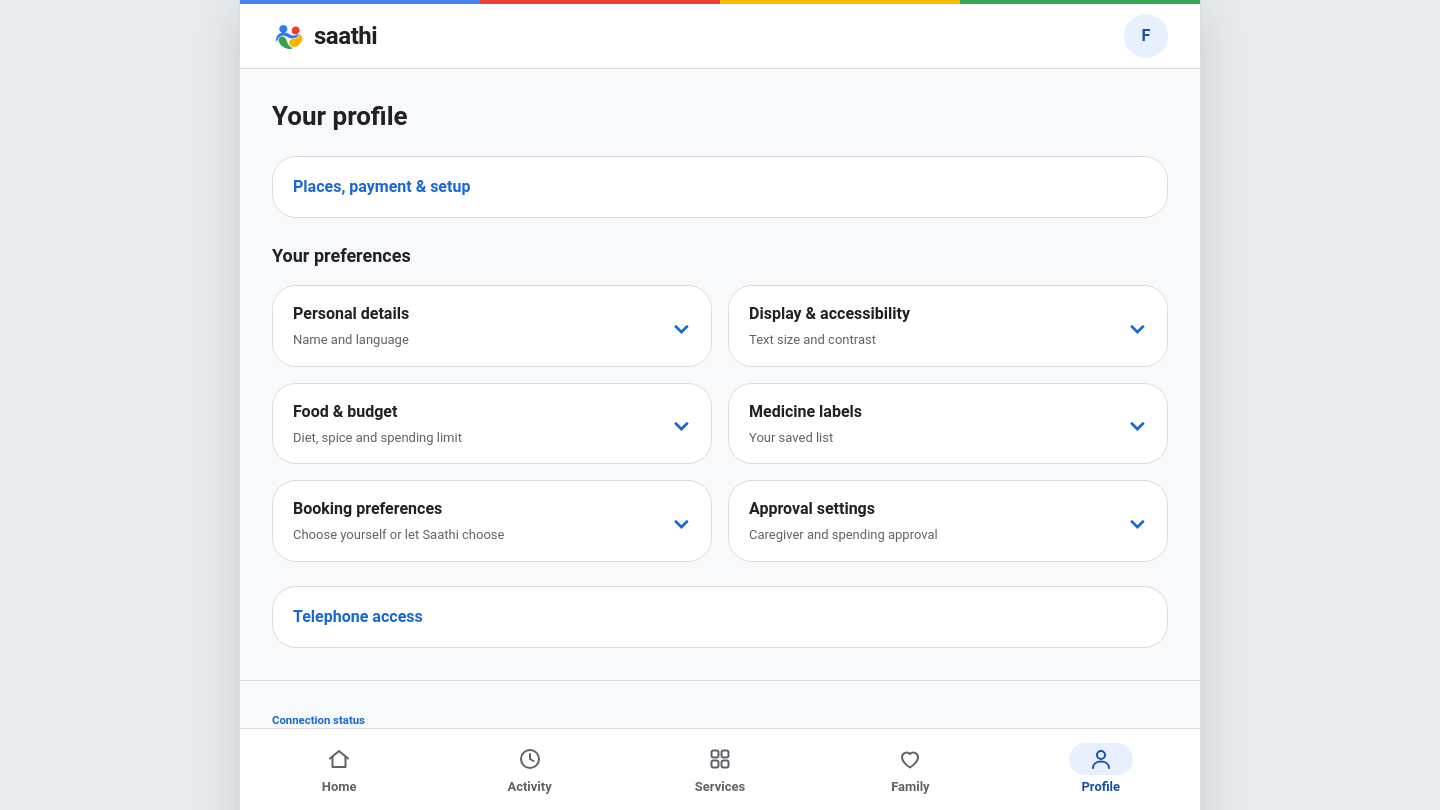
Test case: failed preference save keeps the draft editable and shows no saved summary
This screenshot has width=1440, height=810.
Click the button "Personal details Name and language ⌄": point(351, 314) [273,286,711,366]
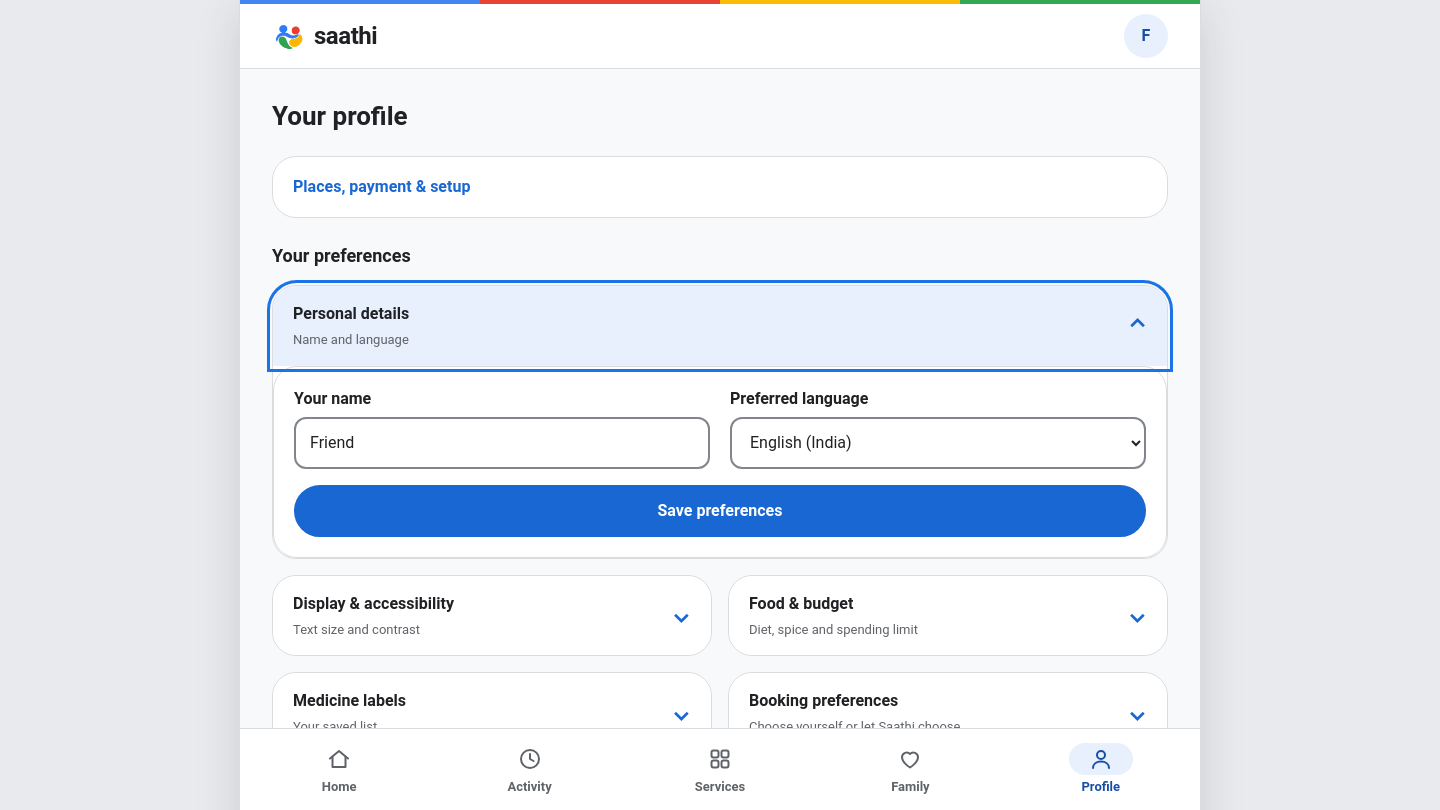
Replace the text in the field labelled "Your name" with "Unsaved name": point(502, 443) [294,417,710,469]
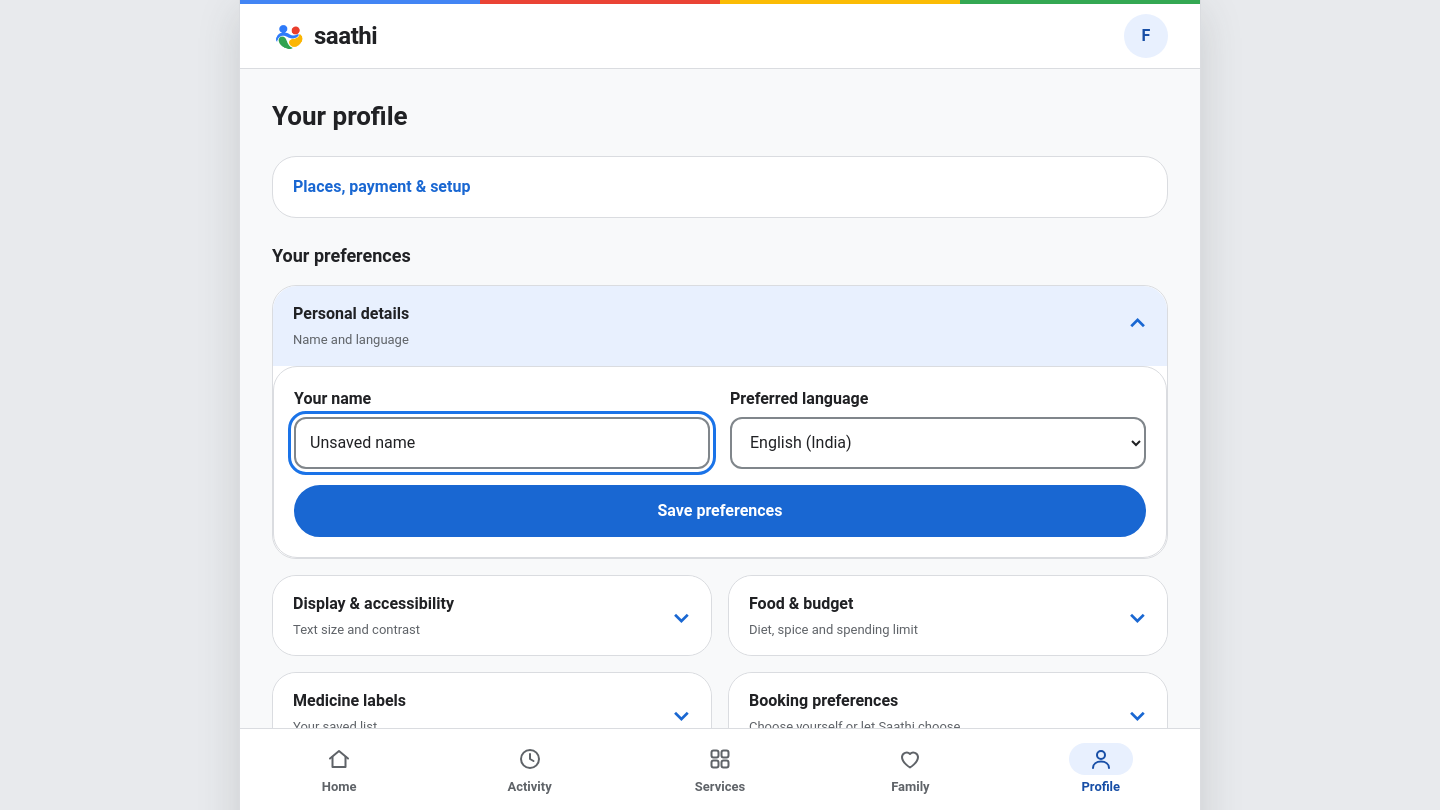
Click the button "Save preferences": point(720, 511) [294,485,1146,537]
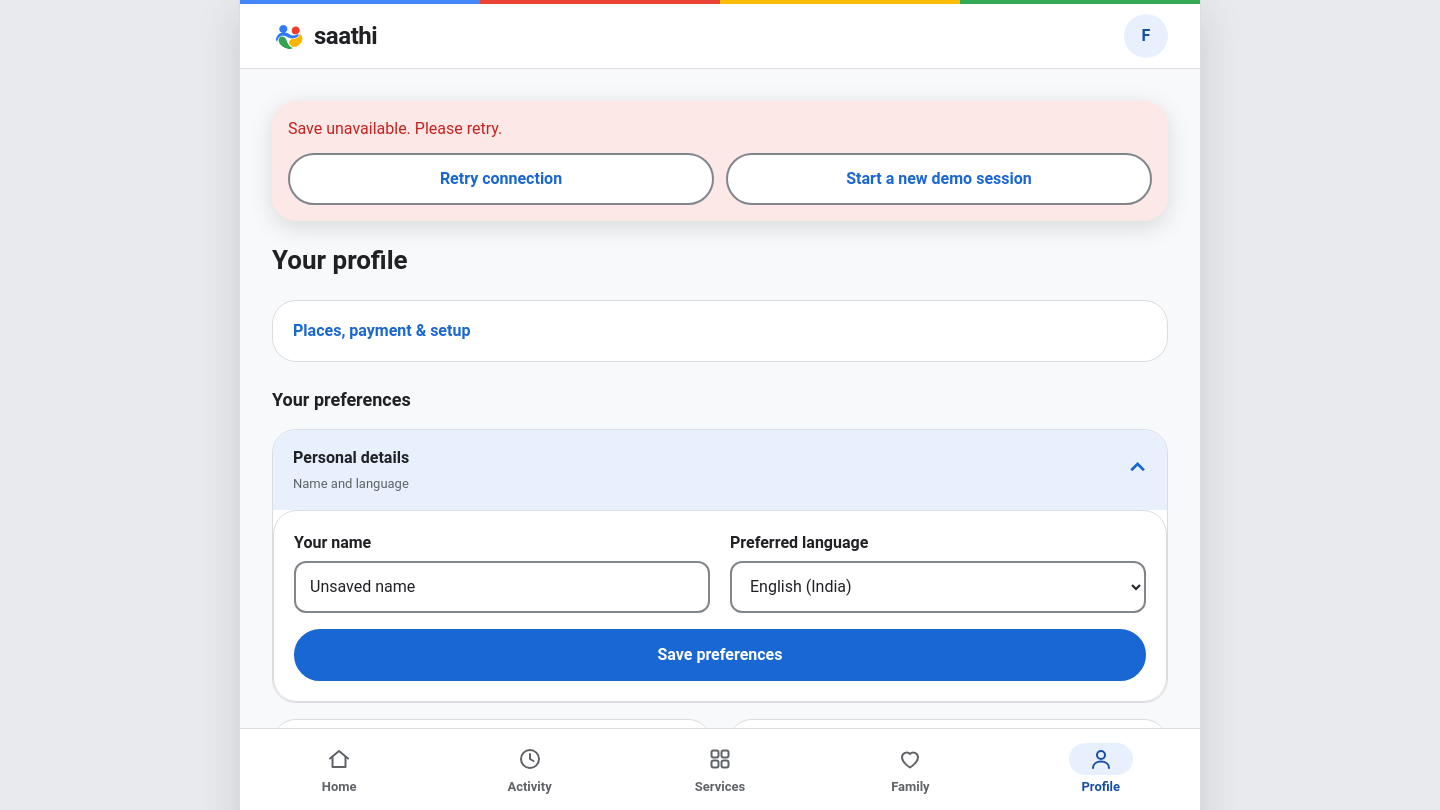
Expected: the field labelled "Your name" is enabled, [294,561,710,613]
Expected: the message shows "Save unavailable", [288,119,502,138]
